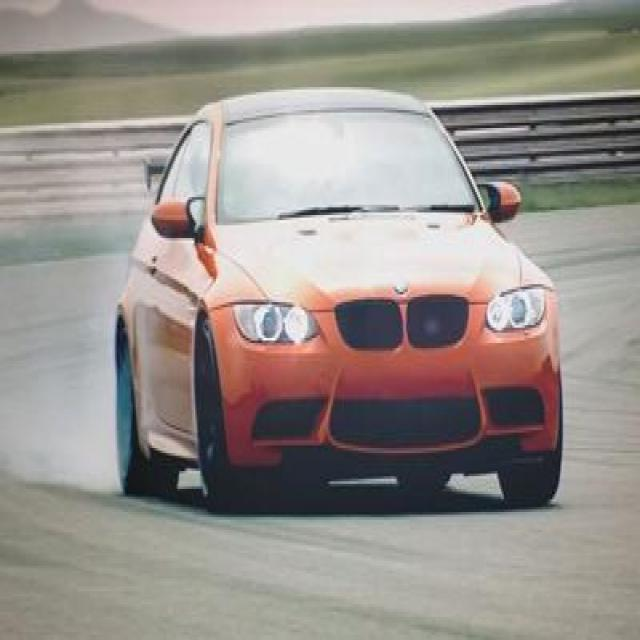Car: (108, 86, 590, 508)
